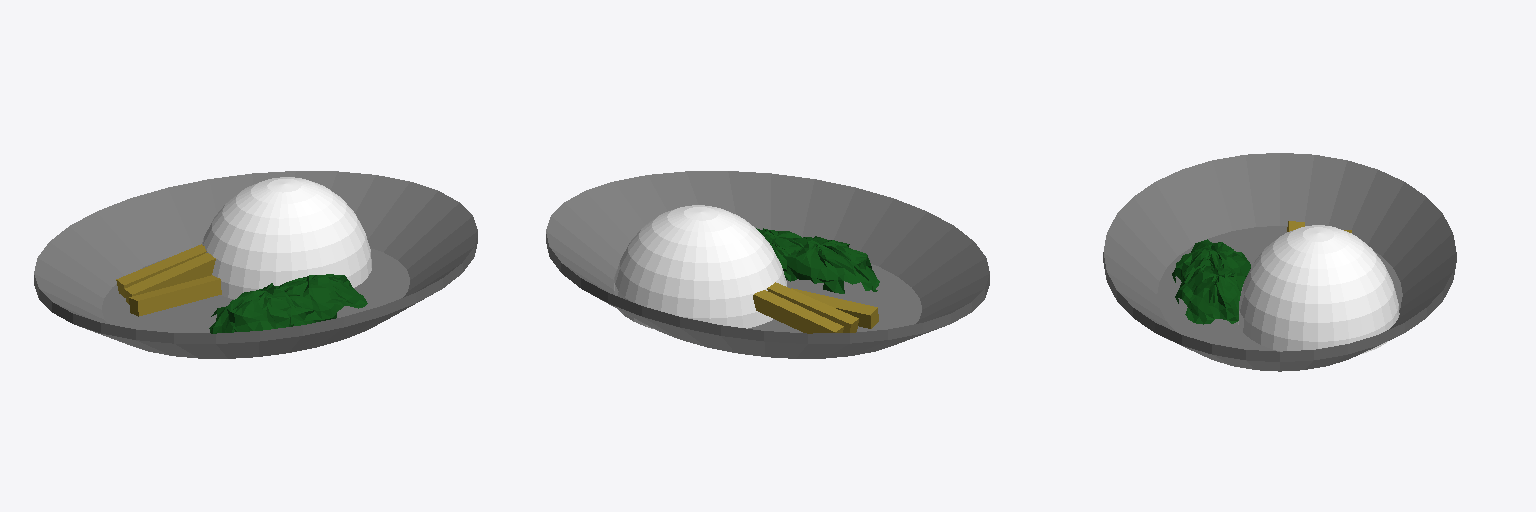
The model's file is rice3_meat1_veg2.obj.
3 views of the same model, side by side, from view 1: azimuth 30°, elevation 25°; view 2: azimuth 150°, elevation 25°; view 3: azimuth 270°, elevation 25° (orthographic).
Parts seen in each view (by area): view 1: Cylinder, Sphere, Sphere.002, Sphere.001, Cube.002_Cube.003, Cube.001_Cube.002, Cube_Cube.001; view 2: Cylinder, Sphere, Sphere.002, Cube_Cube.001, Cube.001_Cube.002, Cube.002_Cube.003, Sphere.001; view 3: Cylinder, Sphere, Sphere.001, Sphere.002.
Boxes of the visible parts, <box> form: Cylinder: <box>34,171,477,358</box>; Sphere: <box>202,177,371,299</box>; Sphere.002: <box>209,283,314,333</box>; Sphere.001: <box>278,274,367,326</box>; Cube.002_Cube.003: <box>129,275,221,316</box>; Cube.001_Cube.002: <box>124,253,215,303</box>; Cube_Cube.001: <box>116,244,206,297</box>; Cylinder: <box>546,171,989,358</box>; Sphere: <box>614,205,786,330</box>; Sphere.002: <box>783,236,879,293</box>; Cube_Cube.001: <box>753,290,843,333</box>; Cube.001_Cube.002: <box>767,282,858,332</box>; Cube.002_Cube.003: <box>791,288,878,328</box>; Sphere.001: <box>756,228,803,281</box>; Cylinder: <box>1103,153,1456,371</box>; Sphere: <box>1238,225,1399,353</box>; Sphere.001: <box>1175,264,1245,324</box>; Sphere.002: <box>1172,239,1250,284</box>.
Bounding box in the file's own units: 5.75 × 1.25 × 4.31.